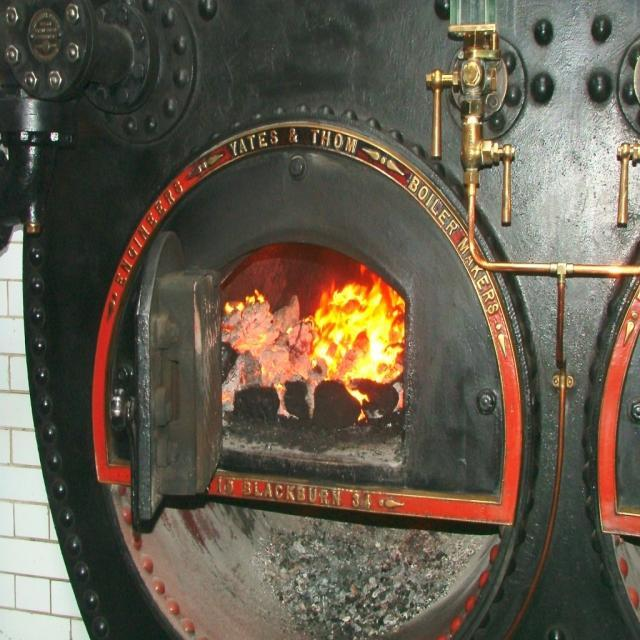Fire: (274, 260, 416, 388)
